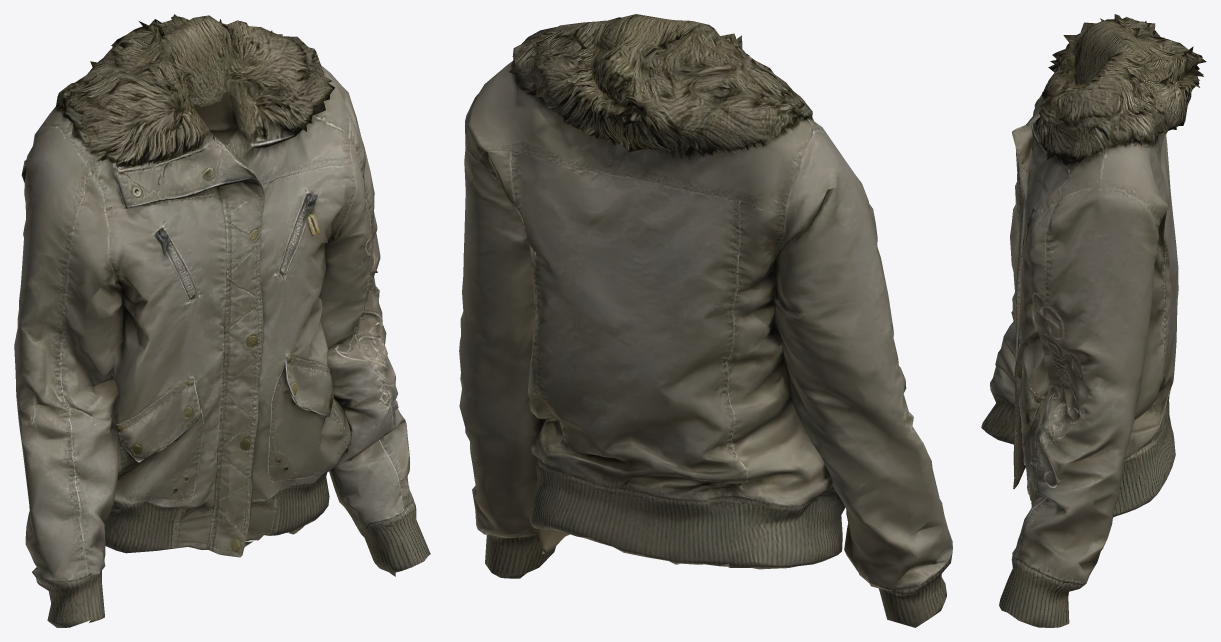
3 renders of one model, left to right at view 1: azimuth 30°, elevation 25°; view 2: azimuth 150°, elevation 25°; view 3: azimuth 270°, elevation 25°, orthographic. The views are drawn at different scales.
Visible parts, largest first — view 1: tripo_node_35c84db3-6b58-40a1-8b4e-9897cbf26bcf; view 2: tripo_node_35c84db3-6b58-40a1-8b4e-9897cbf26bcf; view 3: tripo_node_35c84db3-6b58-40a1-8b4e-9897cbf26bcf.
Boxes of the visible parts, x1=… form: tripo_node_35c84db3-6b58-40a1-8b4e-9897cbf26bcf: x1=14, y1=14, x2=430, y2=627; tripo_node_35c84db3-6b58-40a1-8b4e-9897cbf26bcf: x1=459, y1=14, x2=952, y2=627; tripo_node_35c84db3-6b58-40a1-8b4e-9897cbf26bcf: x1=981, y1=14, x2=1206, y2=627.
Bounding box in the file's own units: 0.7539 × 1.02 × 0.3987.
1 material, 1 textured.
